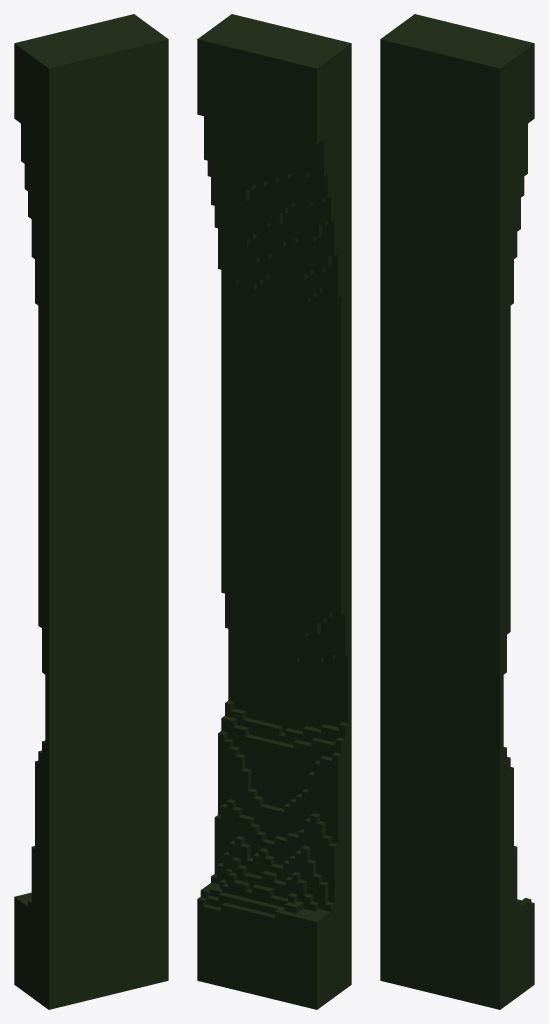
The model's file is Wall_1.glb.
3 views of the same model, side by side, from view 1: azimuth 30°, elevation 25°; view 2: azimuth 150°, elevation 25°; view 3: azimuth 330°, elevation 25° (orthographic).
Parts seen in each view (by area): view 1: Untitled.013; view 2: Untitled.013; view 3: Untitled.013.
Boxes of the visible parts, x1,y1,x2,y2 form: Untitled.013: (14, 14, 168, 1009); Untitled.013: (197, 14, 351, 1009); Untitled.013: (380, 14, 534, 1009).
Bounding box in the file's own units: 2 × 15 × 1.
1 material, 1 textured.
